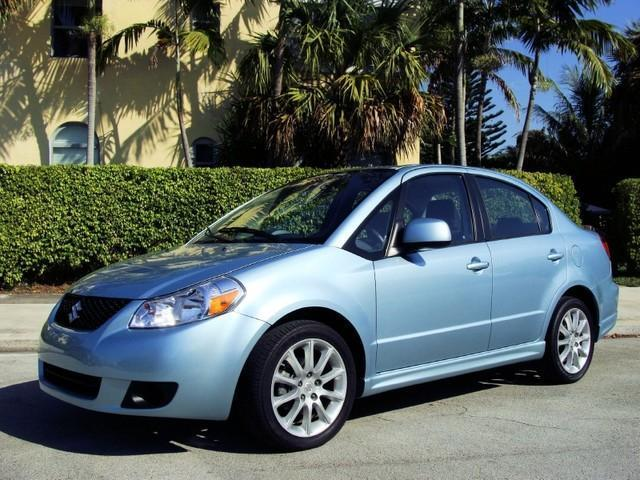suzuki: (60, 294, 94, 327)
